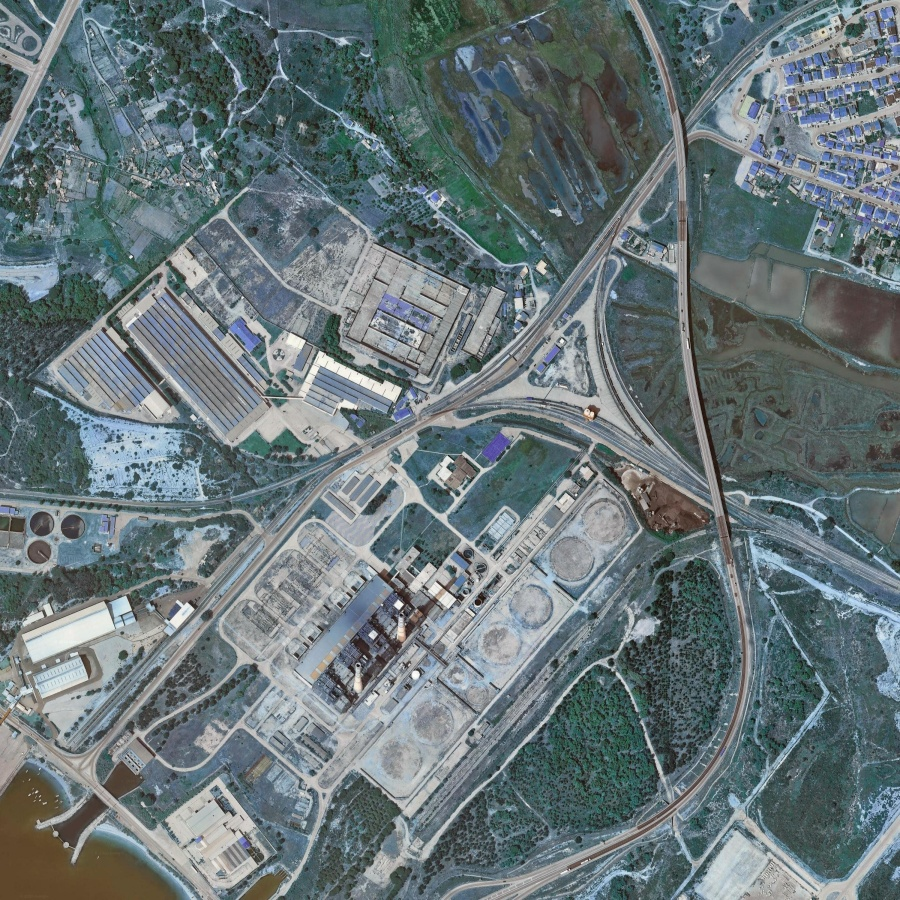PowerPlant: (254, 446, 628, 786)
